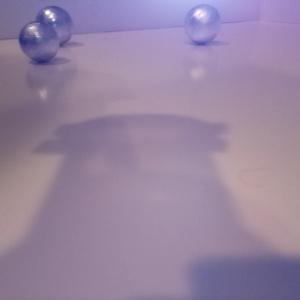alive_ball: (19, 21, 60, 62), (34, 6, 74, 48), (185, 4, 220, 43)
